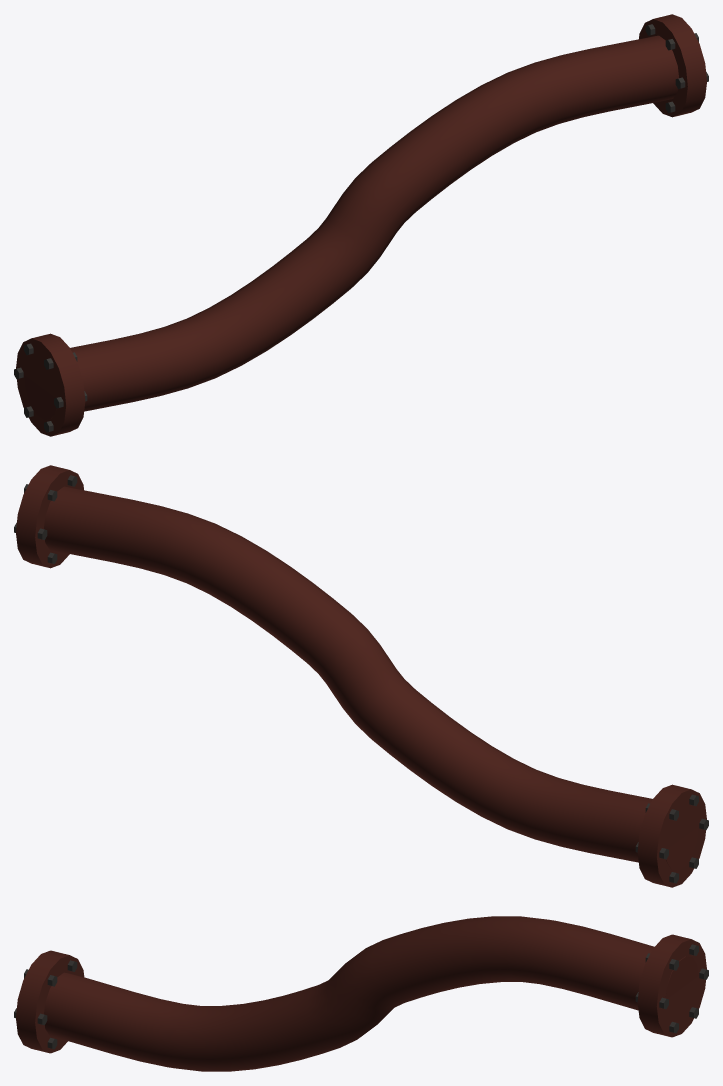
Rendered from PipeS.fbx.
3 views of the same model, one above another, from view 1: azimuth 30°, elevation 25°; view 2: azimuth 150°, elevation 25°; view 3: azimuth 330°, elevation 25° (orthographic).
Parts seen in each view (by area): view 1: PipeS_Pipe, PipeS_Bolts; view 2: PipeS_Pipe, PipeS_Bolts; view 3: PipeS_Pipe, PipeS_Bolts.
Part boxes in pixels (x1,y1,x2,y2): PipeS_Pipe: (16, 14, 706, 436); PipeS_Bolts: (14, 24, 708, 432); PipeS_Pipe: (16, 465, 706, 887); PipeS_Bolts: (14, 475, 708, 883); PipeS_Pipe: (16, 916, 706, 1071); PipeS_Bolts: (14, 944, 708, 1049).
Bounding box in the file's own units: 1.01 × 0.386 × 0.136.
